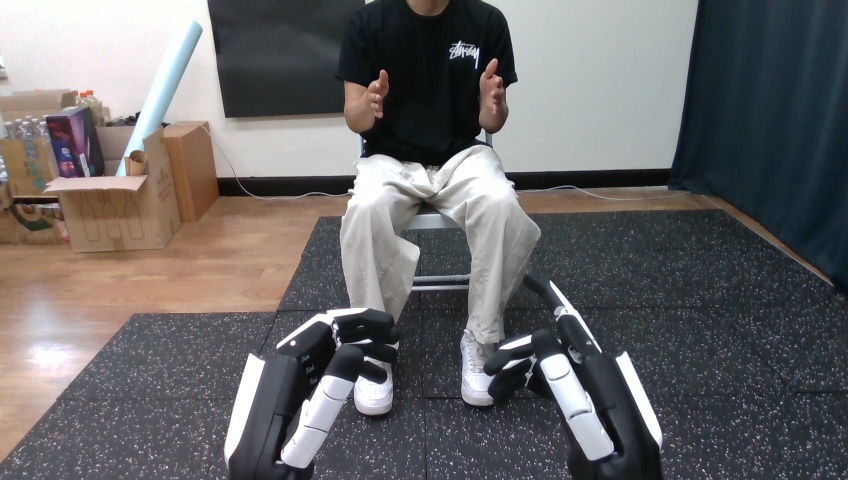left robot arm: (484, 270, 661, 478), (224, 308, 398, 479)
left robot hand: (224, 308, 398, 479)
right robot arm: (484, 270, 661, 478), (224, 308, 398, 479)
right robot hand: (224, 308, 398, 479)
